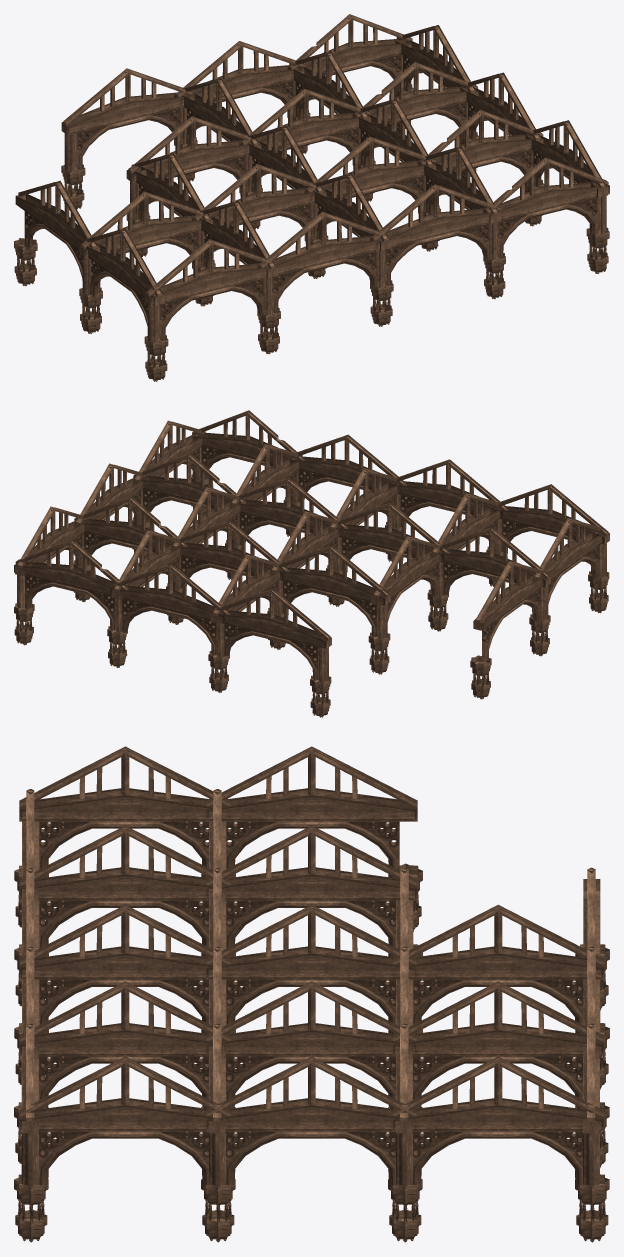
File: CHpotolog.fbx
3 renders of one model, top to bottom at view 1: azimuth 30°, elevation 25°; view 2: azimuth 150°, elevation 25°; view 3: azimuth 270°, elevation 25°, orthographic. The views are drawn at different scales.
Visible parts, largest first — view 1: po_lp.007; view 2: po_lp.007; view 3: po_lp.007.
Boxes of the visible parts, bbox=[...] form: po_lp.007: bbox=[14, 14, 609, 381]; po_lp.007: bbox=[14, 410, 609, 717]; po_lp.007: bbox=[14, 746, 609, 1242].
Size of the model in its own units: 1450 by 388 by 1131.
